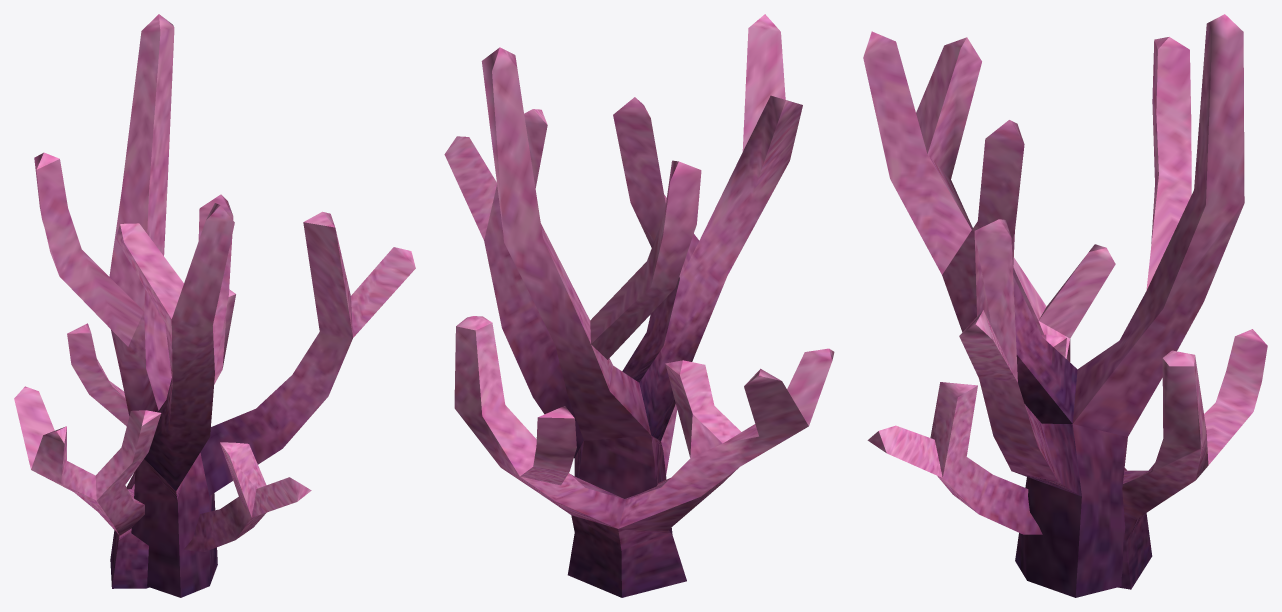
File: map_113_zhibei_3.fbx
3 renders of one model, left to right at view 1: azimuth 30°, elevation 25°; view 2: azimuth 150°, elevation 25°; view 3: azimuth 270°, elevation 25°, orthographic. The views are drawn at different scales.
Parts seen in each view (by area): view 1: map_113_zhibei_3; view 2: map_113_zhibei_3; view 3: map_113_zhibei_3.
Part boxes in pixels (bbox=[...]): map_113_zhibei_3: bbox=[14, 14, 415, 597]; map_113_zhibei_3: bbox=[444, 14, 834, 597]; map_113_zhibei_3: bbox=[863, 14, 1267, 597].
Bounding box in the file's own units: 1.36 × 1.83 × 1.14.
